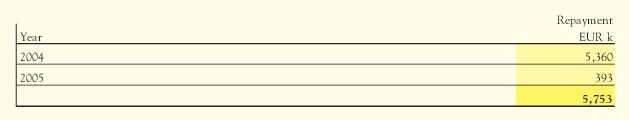table: (0, 0, 629, 120)
